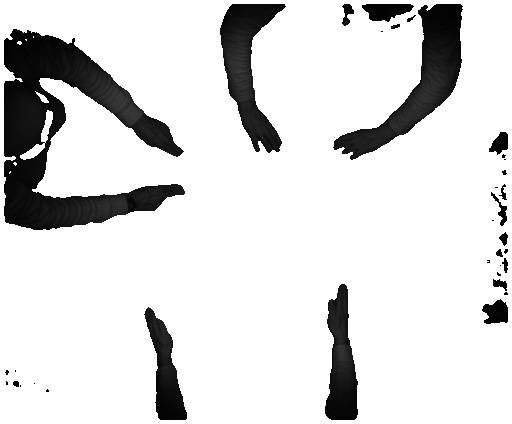hand: (237, 104, 287, 159), (135, 118, 183, 159), (133, 184, 191, 215), (328, 128, 384, 159)
spine: (320, 283, 351, 343), (144, 304, 175, 361)
